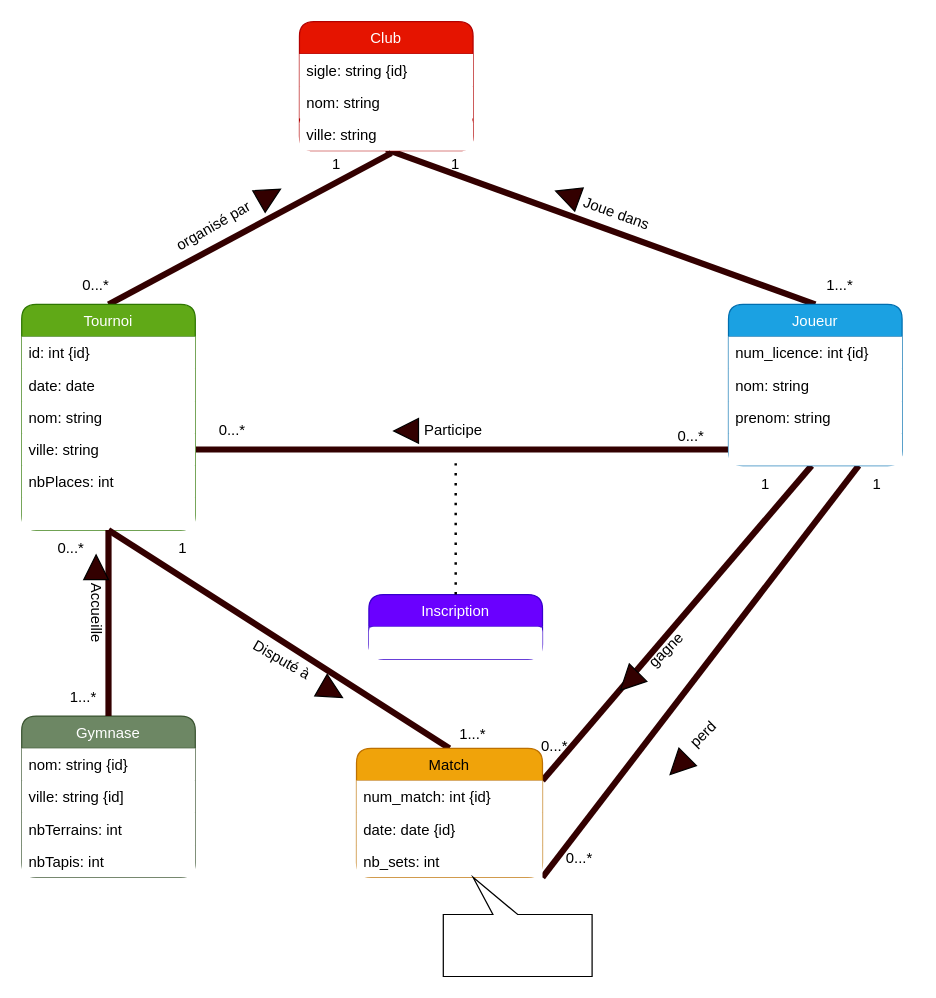
Image size: 936x998. Some labels were removed from this diagram. Here are the shapes that lost their labels. From the top down, the centre of each, then its label:
At point (814, 449): "age: int".
At point (108, 513): "prix: int".
At point (455, 642): "paiement: int".
At point (517, 926): "nb_sets>0 nb_sets<=3".
